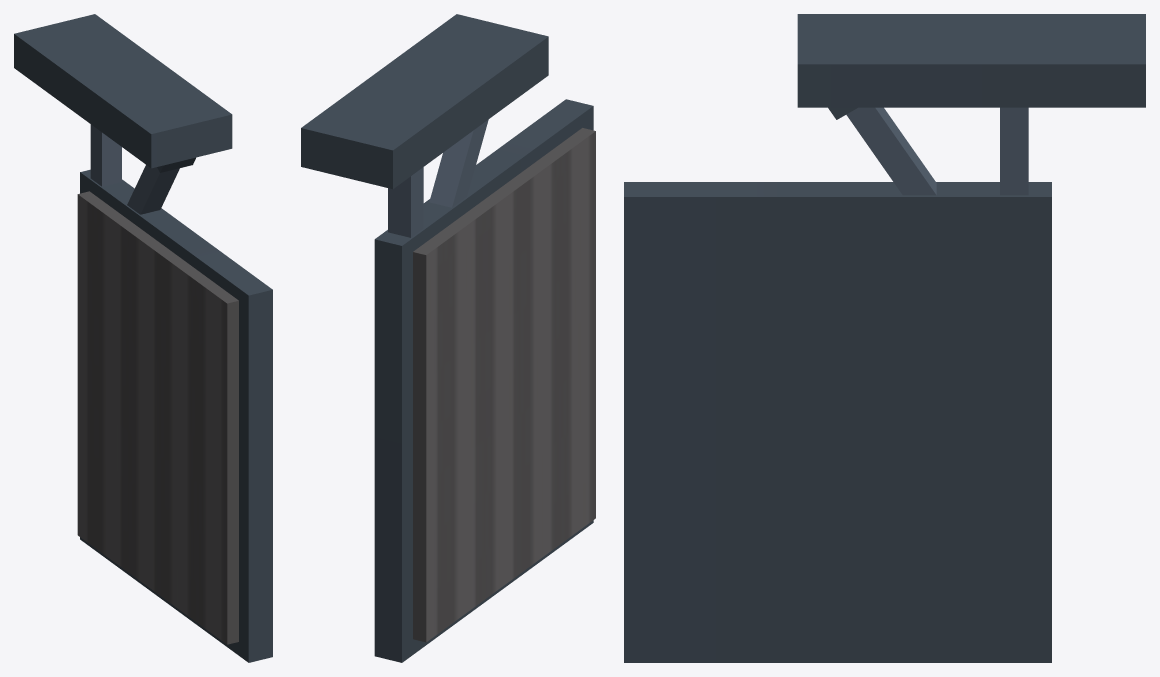
Rendered from SignProp_1_A_3.fbx.
3 views of the same model, side by side, from view 1: azimuth 30°, elevation 25°; view 2: azimuth 150°, elevation 25°; view 3: azimuth 270°, elevation 25° (orthographic). The views are drawn at different scales.
Visible parts, largest first — view 1: SignProp_1_A_3; view 2: SignProp_1_A_3; view 3: SignProp_1_A_3.
Boxes of the visible parts, x1,y1,x2,y2 form: SignProp_1_A_3: [14, 14, 272, 662]; SignProp_1_A_3: [301, 14, 595, 662]; SignProp_1_A_3: [624, 14, 1145, 662].
Bounding box in the file's own units: 20.79 × 119 × 91.36.
